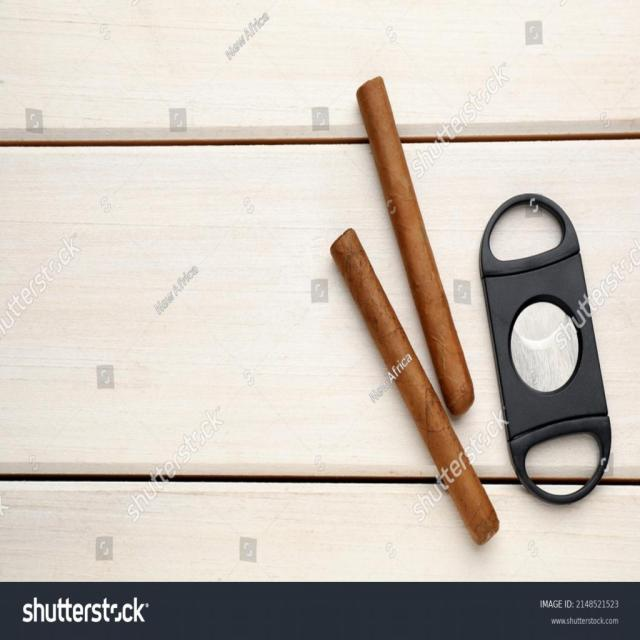smoking: (322, 227, 507, 549), (351, 75, 480, 417)
